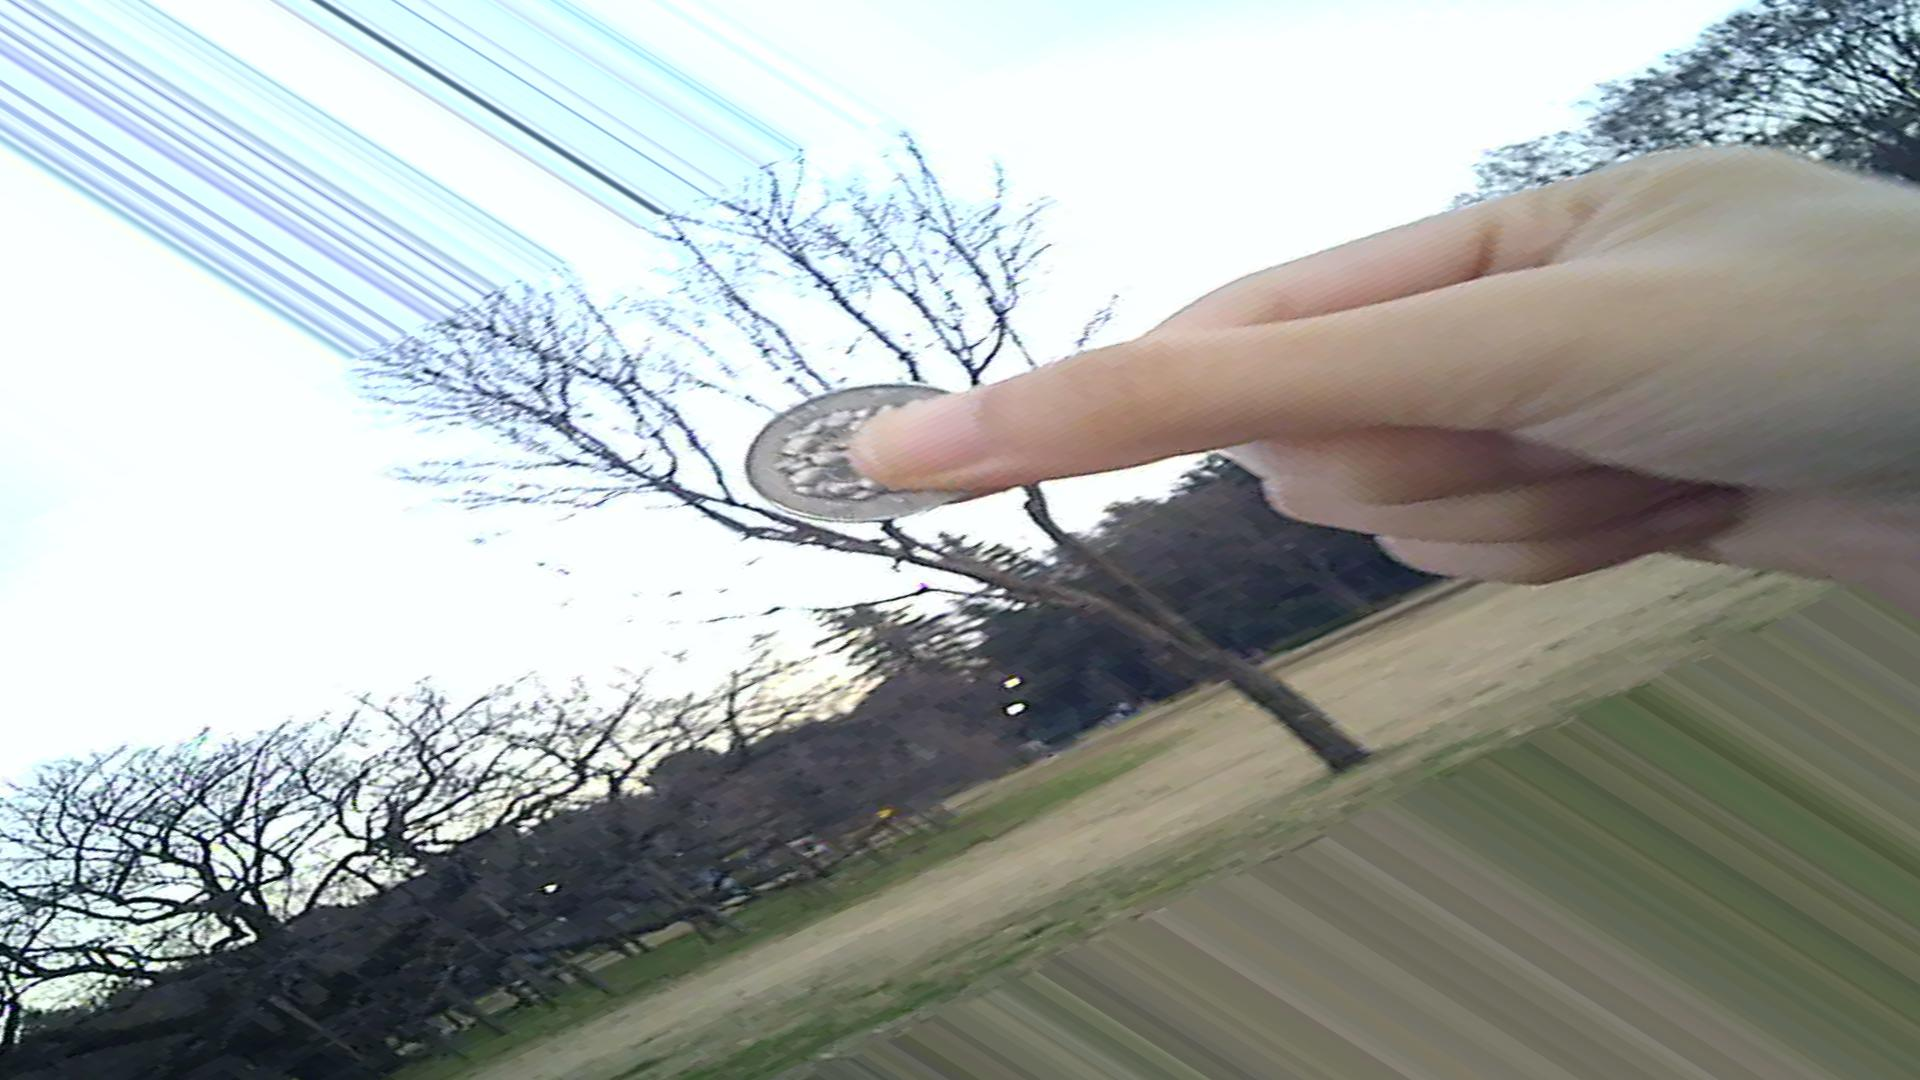100 Yen: (752, 375, 978, 516)
